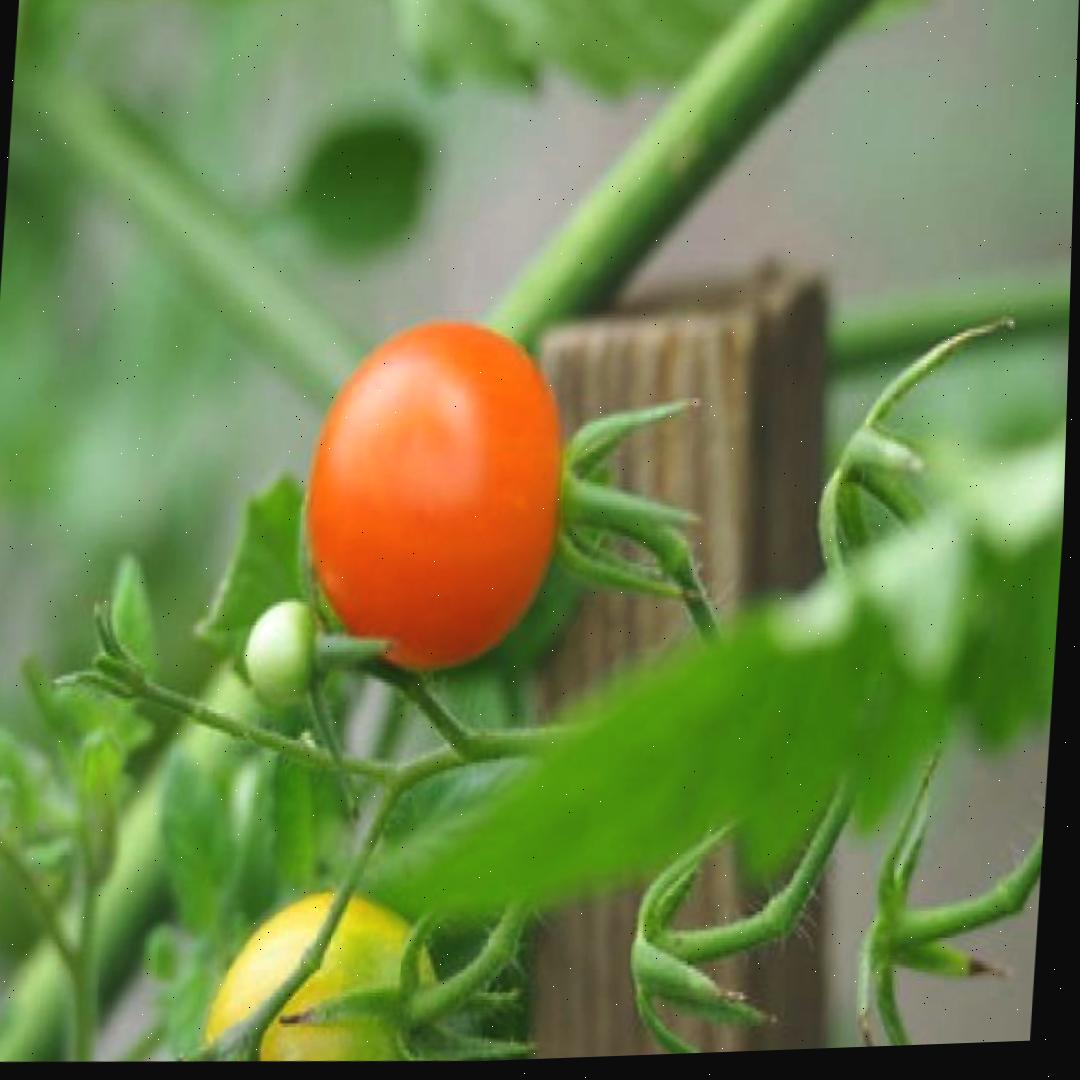matang: (292, 308, 568, 675)
